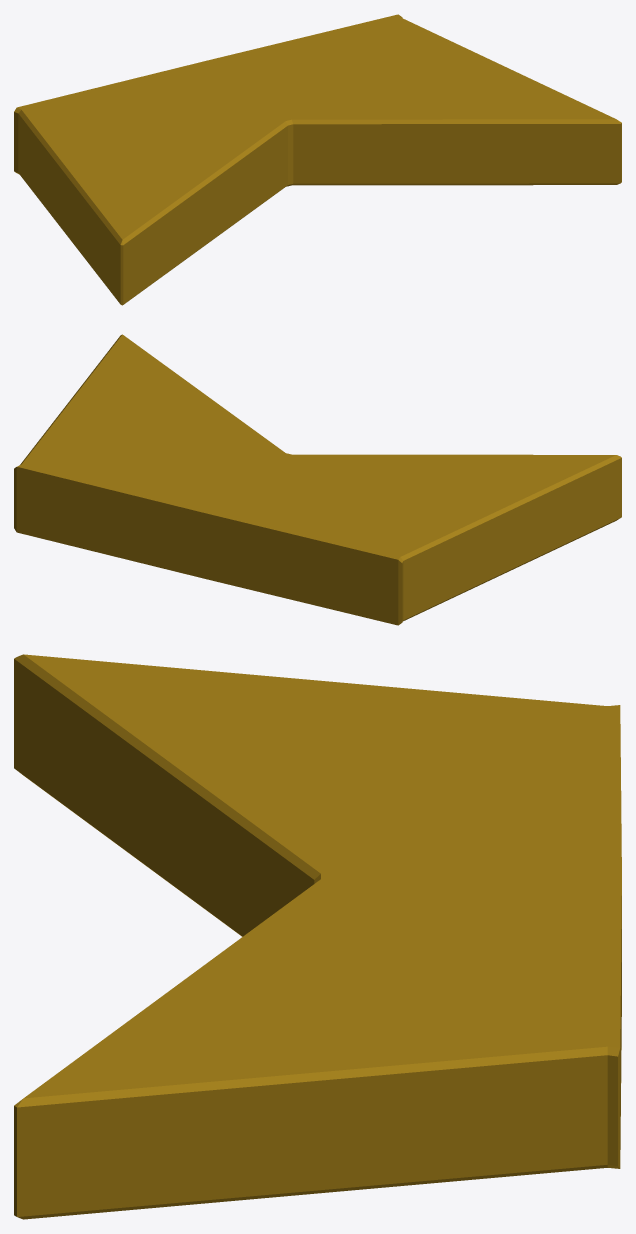
The model's file is star0.obj.
The picture shows the model from 3 angles, top to bottom: view 1: azimuth 30°, elevation 25°; view 2: azimuth 150°, elevation 25°; view 3: azimuth 270°, elevation 25°; orthographic projection. The views are drawn at different scales.
Visible parts, largest first — view 1: Circle; view 2: Circle; view 3: Circle.
Part boxes in pixels (bbox=[...]): Circle: bbox=[14, 14, 621, 305]; Circle: bbox=[14, 334, 621, 625]; Circle: bbox=[14, 654, 621, 1219].
Size of the model in its own units: 1.17 by 0.147 by 0.6687.
